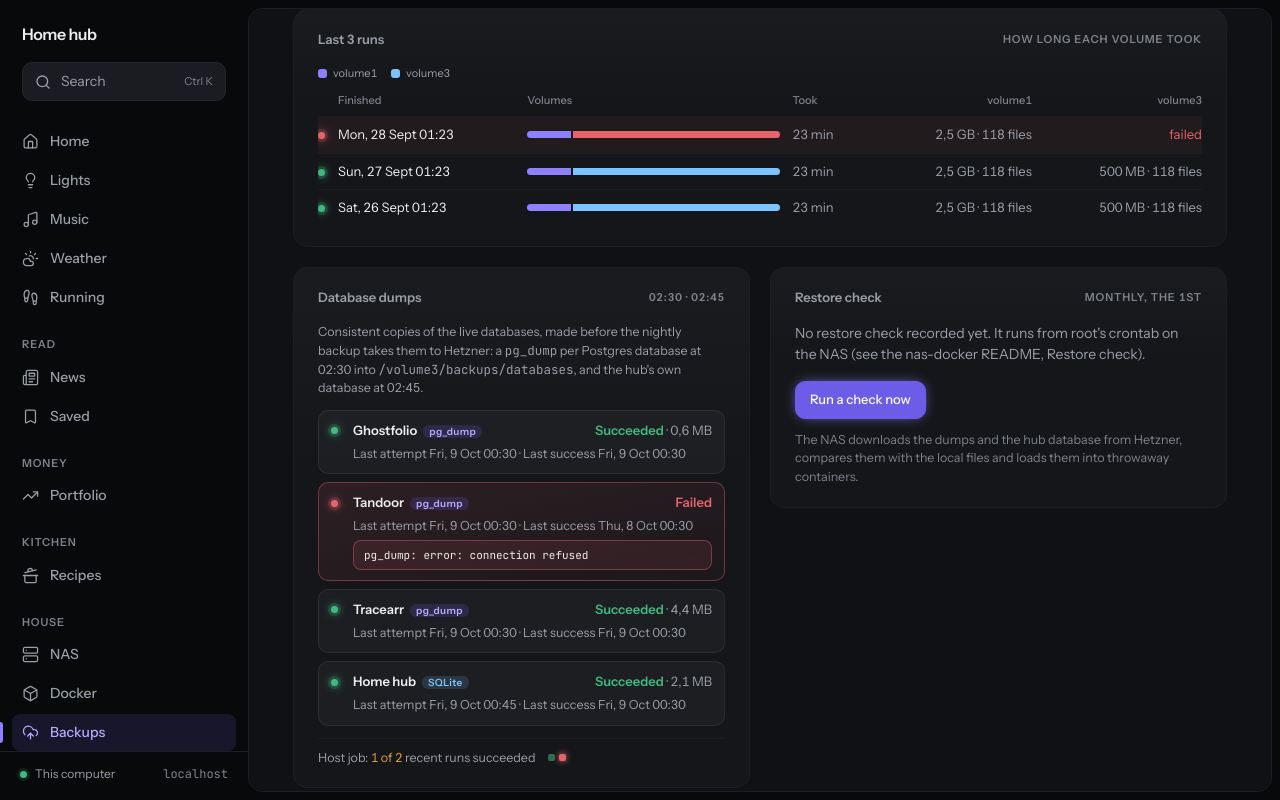
Test: BackupsPage › says why the NAS cannot run another check yet
The image size is (1280, 800).
(page scrolled)
Click the button "Run a check now" at (860, 400), box [795, 381, 926, 418]
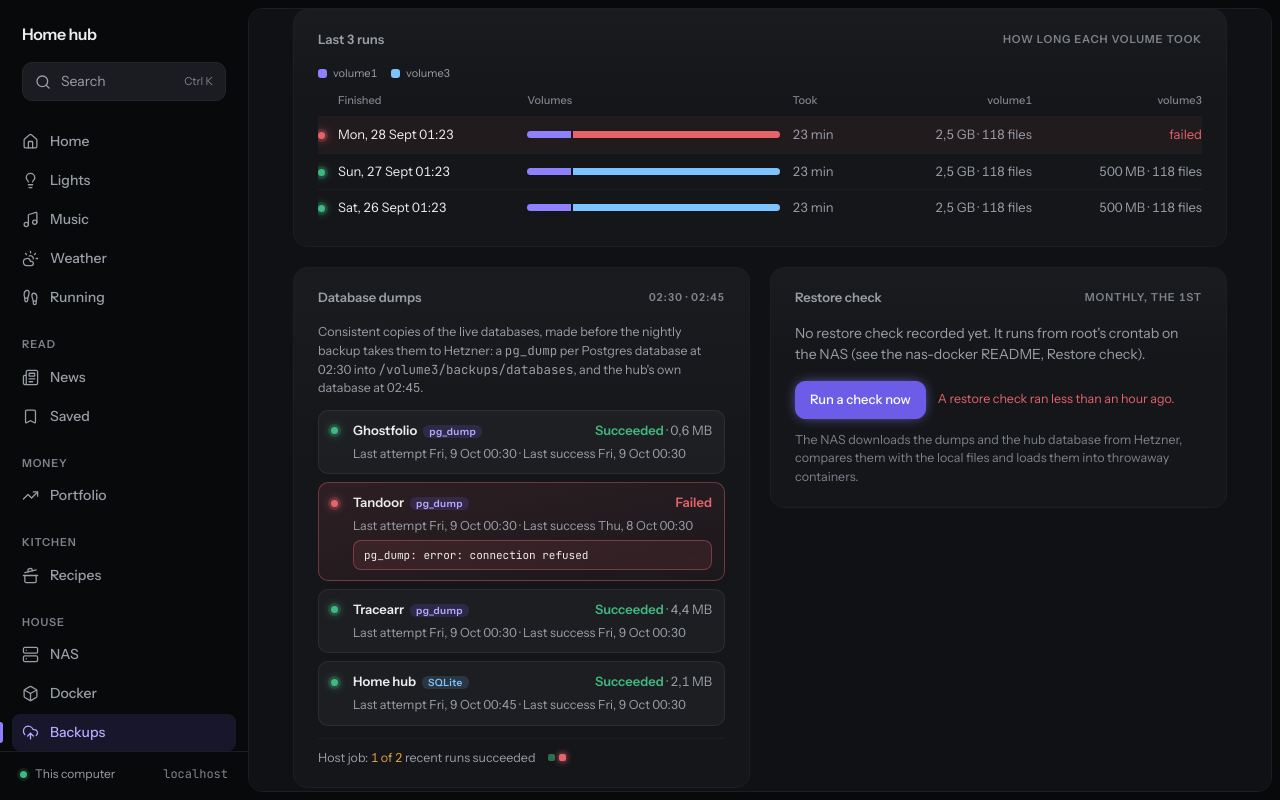
Expected: the message shows "less than an hour ago", [938, 391, 1174, 406]
